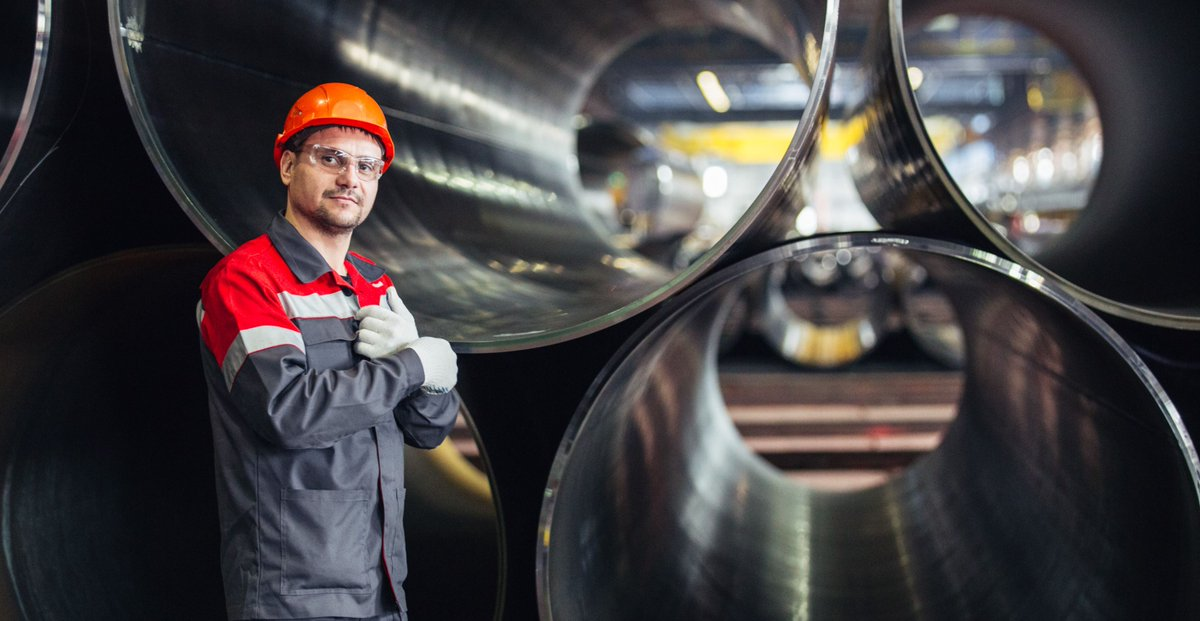person: (193, 81, 459, 621)
